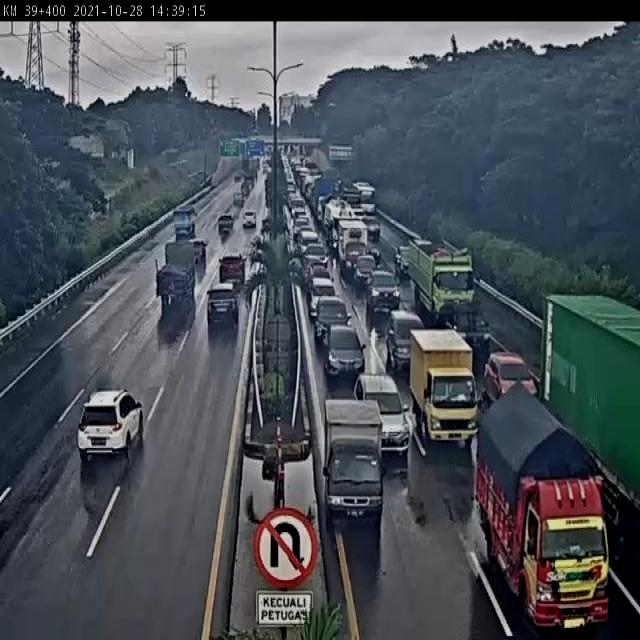Car: (78, 388, 145, 466), (352, 375, 414, 458), (488, 342, 530, 418), (321, 322, 365, 383), (384, 310, 424, 370), (312, 295, 350, 343), (206, 282, 237, 331), (308, 274, 336, 316), (298, 228, 320, 254), (362, 216, 381, 244), (290, 200, 307, 223), (290, 157, 306, 179), (218, 214, 234, 234), (242, 210, 256, 228), (284, 180, 296, 197), (262, 155, 272, 173), (233, 192, 244, 208), (234, 173, 242, 182)
Truck: (478, 397, 632, 625), (535, 281, 640, 538), (408, 330, 477, 447), (398, 238, 475, 330), (155, 244, 198, 326)
Van: (321, 400, 385, 532)
